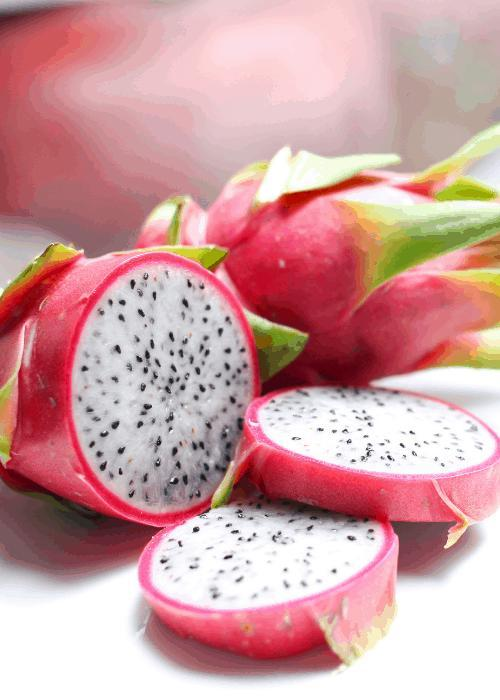dragon-fruit: (0, 248, 265, 530), (134, 166, 470, 388), (134, 493, 402, 662), (241, 380, 500, 525)
